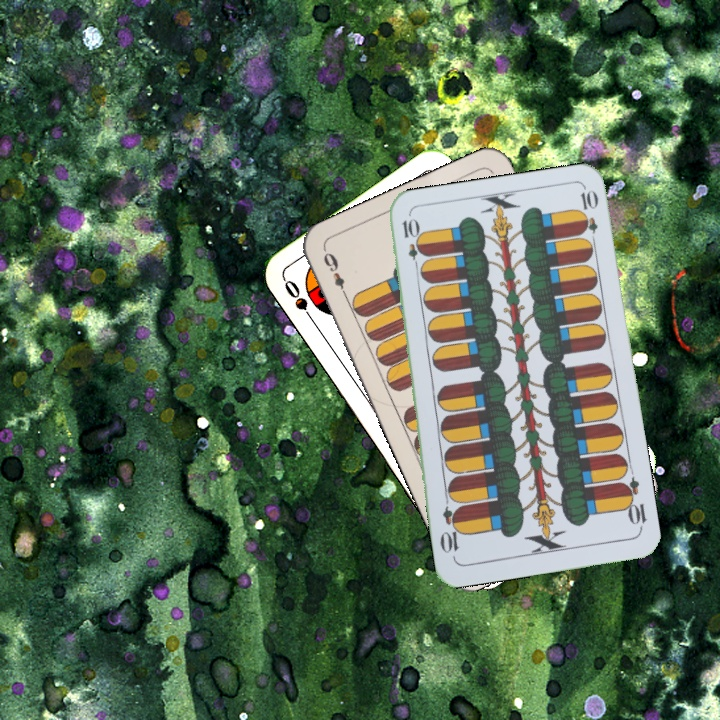E10: (617, 474, 649, 533), (398, 214, 424, 274)
E9: (319, 246, 351, 302)
SO: (280, 275, 319, 328)
